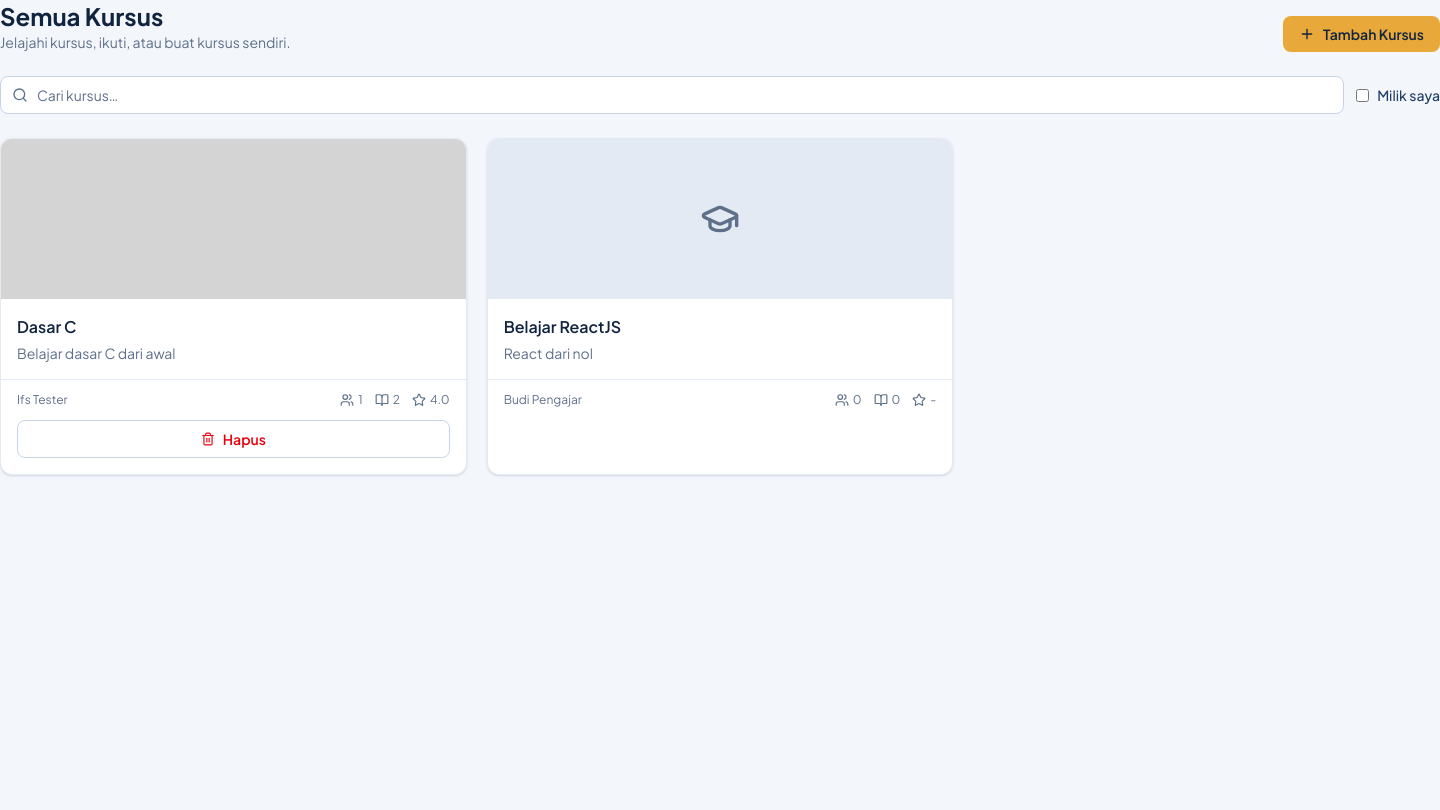
Test: HomePage › membuka modal tambah kursus
Expected: the heading "Dasar C" is shown, [17,316,76,337]
Click the button "Tambah Kursus".
click(1362, 34)  # box [1283,16,1439,52]
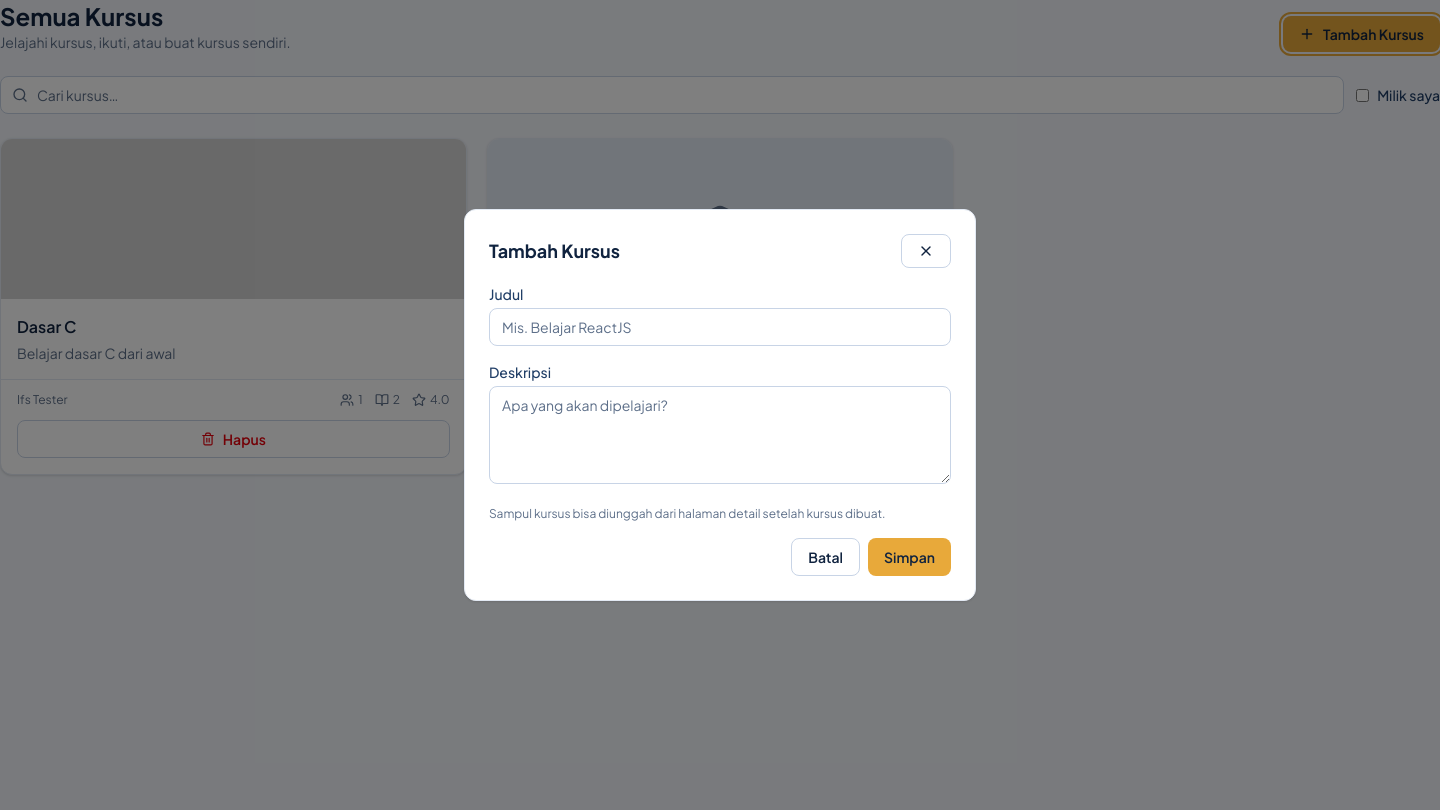
Now the dialog is shown
Click the button "Batal".
click(826, 557)  # box [791,538,860,576]
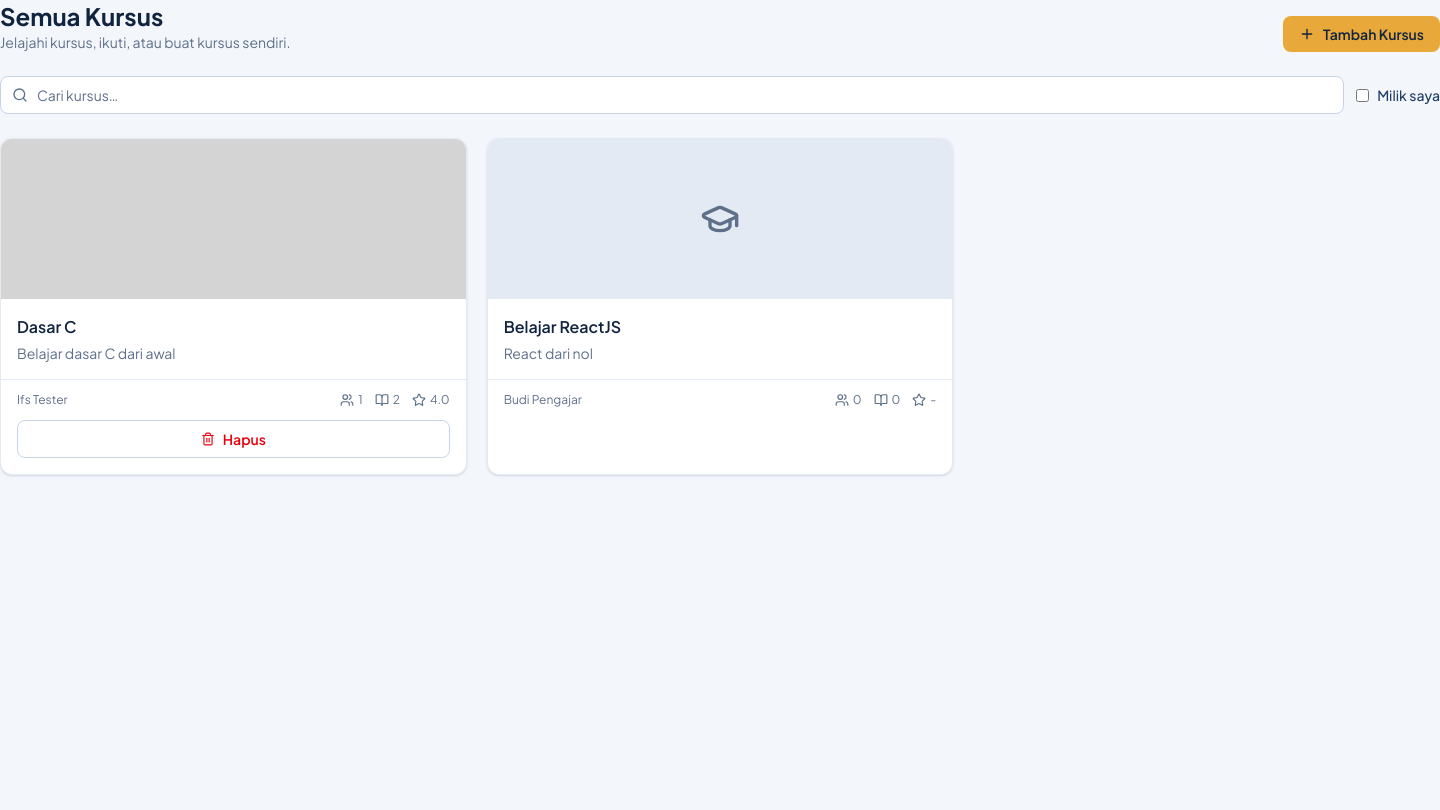
Now the dialog is gone
